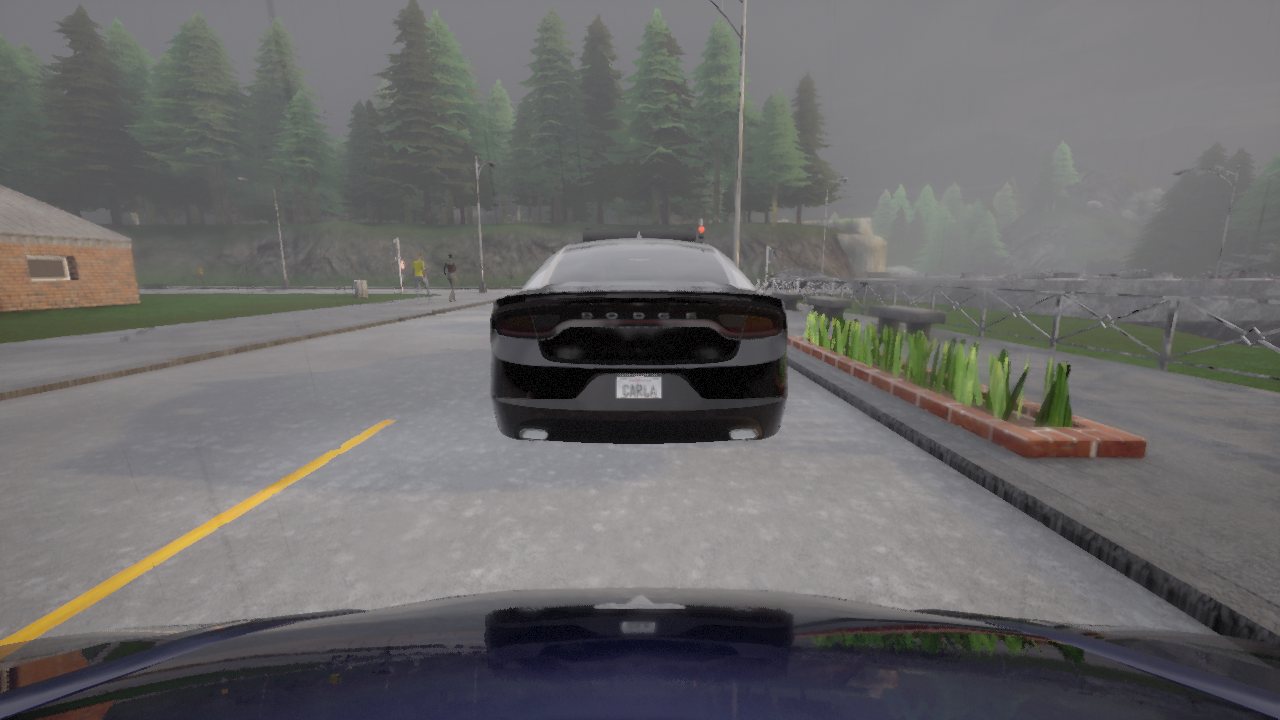cyclist: (0, 588, 1279, 719), (491, 228, 787, 443), (767, 269, 840, 290), (1097, 269, 1183, 279), (1004, 269, 1086, 279), (1208, 269, 1279, 279)
pedestrian: (411, 252, 433, 305), (442, 254, 461, 302), (194, 265, 206, 286), (508, 265, 518, 286), (456, 274, 459, 287)
